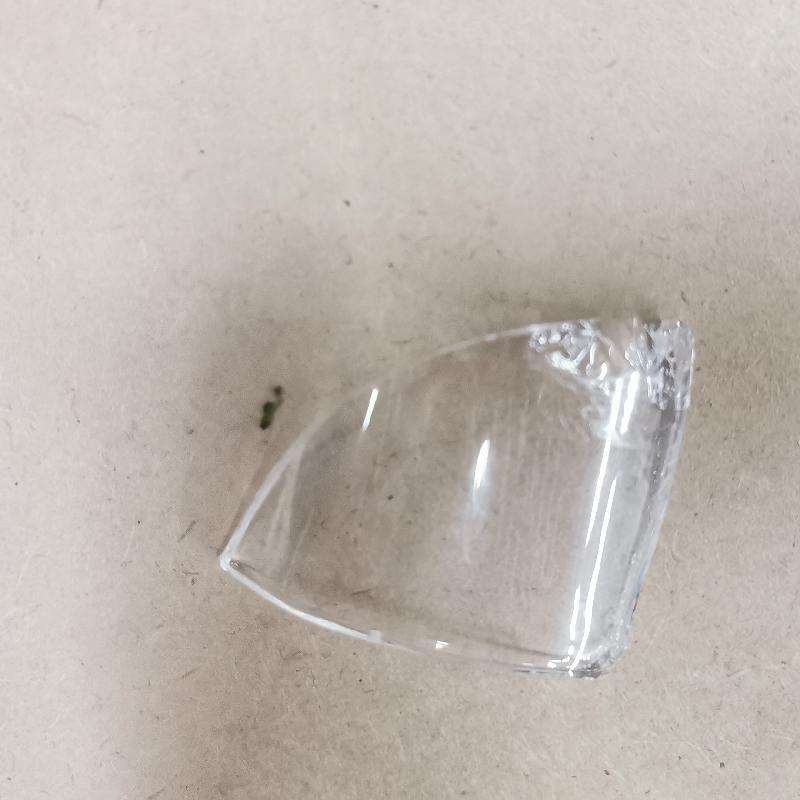glass: (212, 316, 694, 683)
